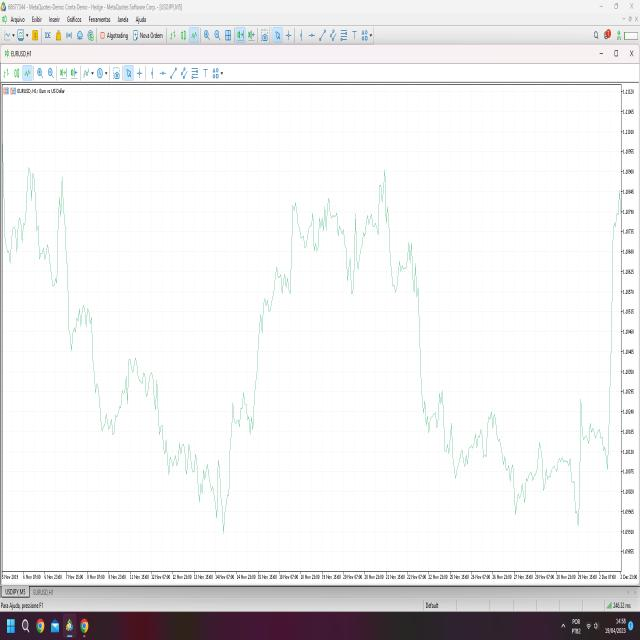bandeira_alta: (245, 248, 290, 421), (216, 373, 252, 538), (570, 394, 611, 532)
bandeira_baixa: (58, 174, 96, 360), (82, 286, 118, 446), (414, 280, 443, 438), (154, 362, 184, 484)
